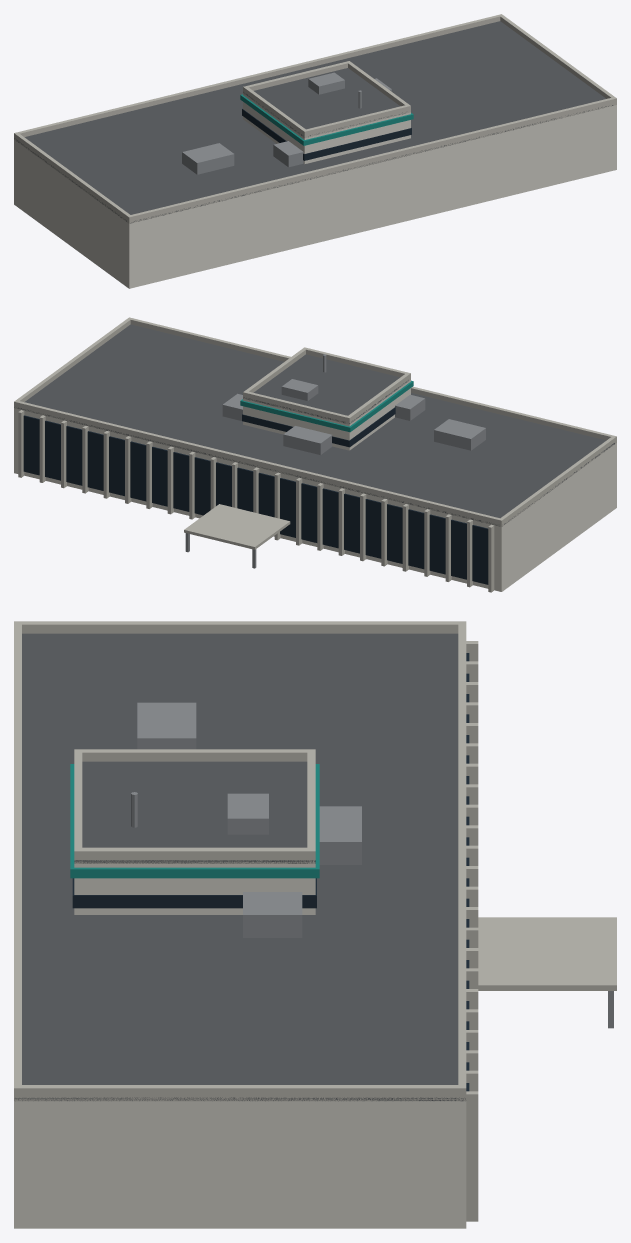
File: mission_control.glb
3 renders of one model, top to bottom at view 1: azimuth 30°, elevation 25°; view 2: azimuth 150°, elevation 25°; view 3: azimuth 270°, elevation 25°, orthographic. The views are drawn at different scales.
Visible parts, largest first — view 1: Mission; view 2: Mission; view 3: Mission.
Part boxes in pixels (x1,y1,x2,y2): Mission: (14, 14, 616, 288); Mission: (14, 317, 616, 592); Mission: (14, 621, 616, 1228).
Size of the model in its own units: 110 by 24 by 60.
